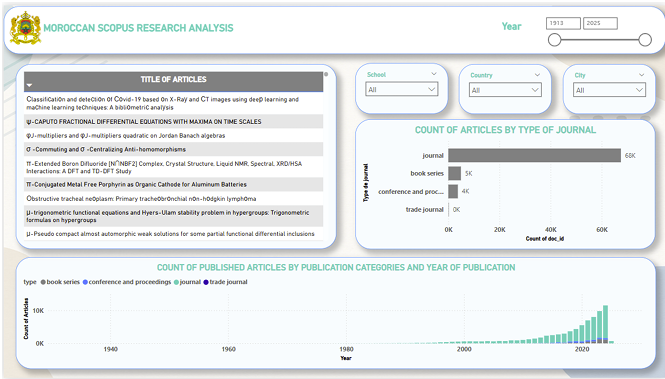

The dashboard page shown, as its layout file describes it:
{"tool":"powerbi","page":{"name":"Dashboard3","canvas":[1280,720],"ordinal":2},"visuals":[{"type":"slicer","fields":{"Values":["Affiliation.city"]},"box":[1081,113.4,179.5,96.4],"z":0},{"type":"slicer","fields":{"Values":["Affiliation.country"]},"box":[880.6,113.4,179.5,96.4],"z":1000},{"type":"slicer","fields":{"Values":["Affiliation.school"]},"box":[680.3,111.5,179.5,98.3],"z":2000},{"type":"columnChart","title":"COUNT OF PUBLISHED ARTICLES BY PUBLICATION CATEGORIES AND YEAR OF PUBLICATION","fields":{"Series":["Journal.type"],"Category":["Metadata.year"],"Y":["Metadata.doc_id"]},"box":[22.8,486.3,1237.8,216.3],"z":3000},{"type":"barChart","title":"COUNT OF ARTICLES BY TYPE OF JOURNAL","fields":{"Y":["Metadata.doc_id"],"Category":["Journal.type"]},"box":[680.3,219.2,580.2,251.3],"z":4000},{"type":"tableEx","fields":{"Values":["Document.title"]},"box":[22.7,113.4,619.8,357.2],"z":5000},{"type":"textbox","box":[0,2,1280,92],"z":6000},{"type":"image","box":[0,0,84.5,84.5],"z":7000},{"type":"textbox","box":[71.8,26.5,393.1,41.6],"z":8000},{"type":"textbox","box":[958,24,68,34.7],"z":9000},{"type":"slicer","fields":{"Values":["Metadata.year"]},"box":[1026,3.3,244,86.7],"z":10000}]}

Visuals, with their boxes in screenshot pixels (x1, y1, x2, y2), scaled from the page's 1280x720 canvas onto the 665x379 screenshot:
slicer - Affiliation.city: detection(562, 60, 655, 110)
slicer - Affiliation.country: detection(457, 60, 551, 110)
slicer - Affiliation.school: detection(353, 59, 447, 110)
"COUNT OF PUBLISHED ARTICLES BY PUBLICATION CATEGORIES AND YEAR OF PUBLICATION" columnChart: detection(12, 256, 655, 370)
"COUNT OF ARTICLES BY TYPE OF JOURNAL" barChart: detection(353, 115, 655, 248)
tableEx - Document.title: detection(12, 60, 334, 248)
textbox: detection(0, 1, 664, 49)
image: detection(0, 0, 44, 44)
textbox: detection(37, 14, 242, 36)
textbox: detection(498, 13, 533, 31)
slicer - Metadata.year: detection(533, 2, 660, 47)
